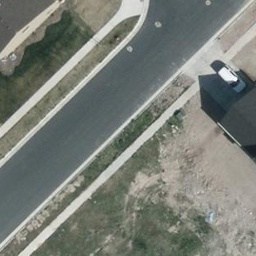car: (209, 58, 247, 94)
